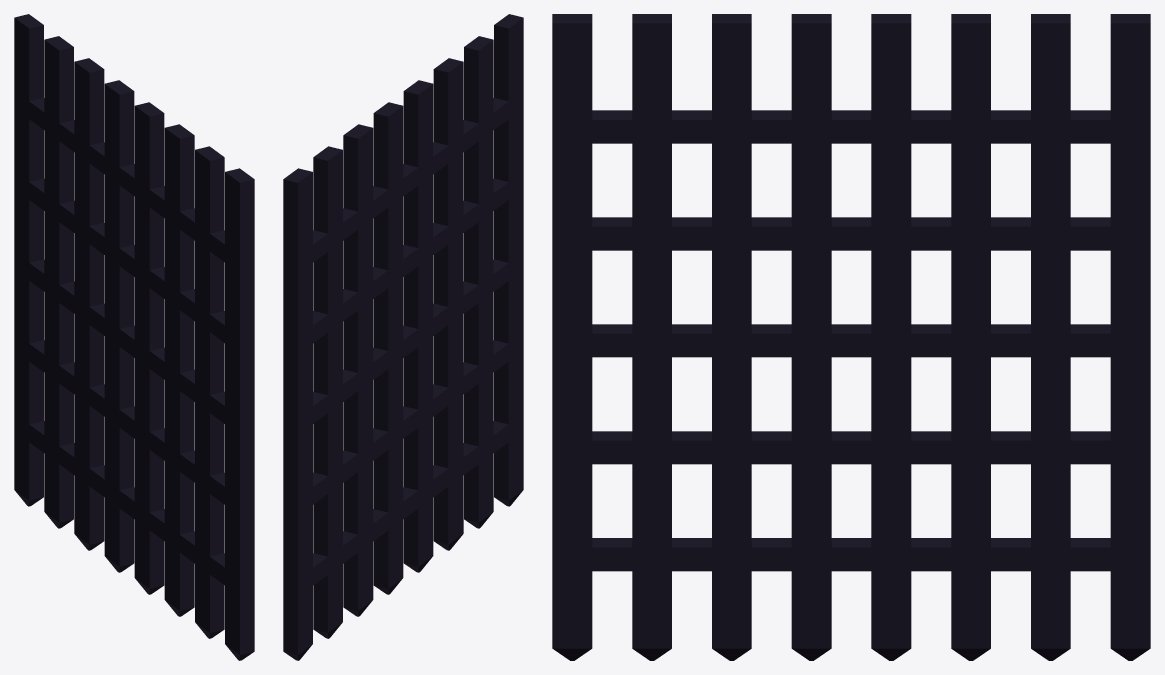
File: adv_gate_door_1x1.fbx
3 renders of one model, left to right at view 1: azimuth 30°, elevation 25°; view 2: azimuth 150°, elevation 25°; view 3: azimuth 270°, elevation 25°, orthographic. The views are drawn at different scales.
Visible parts, largest first — view 1: adv_gate_door_1x1; view 2: adv_gate_door_1x1; view 3: adv_gate_door_1x1.
Boxes of the visible parts, bbox=[...] form: adv_gate_door_1x1: bbox=[14, 14, 254, 660]; adv_gate_door_1x1: bbox=[283, 14, 523, 660]; adv_gate_door_1x1: bbox=[552, 14, 1150, 660].
Bounding box in the file's own units: 5.62 × 178 × 150.
